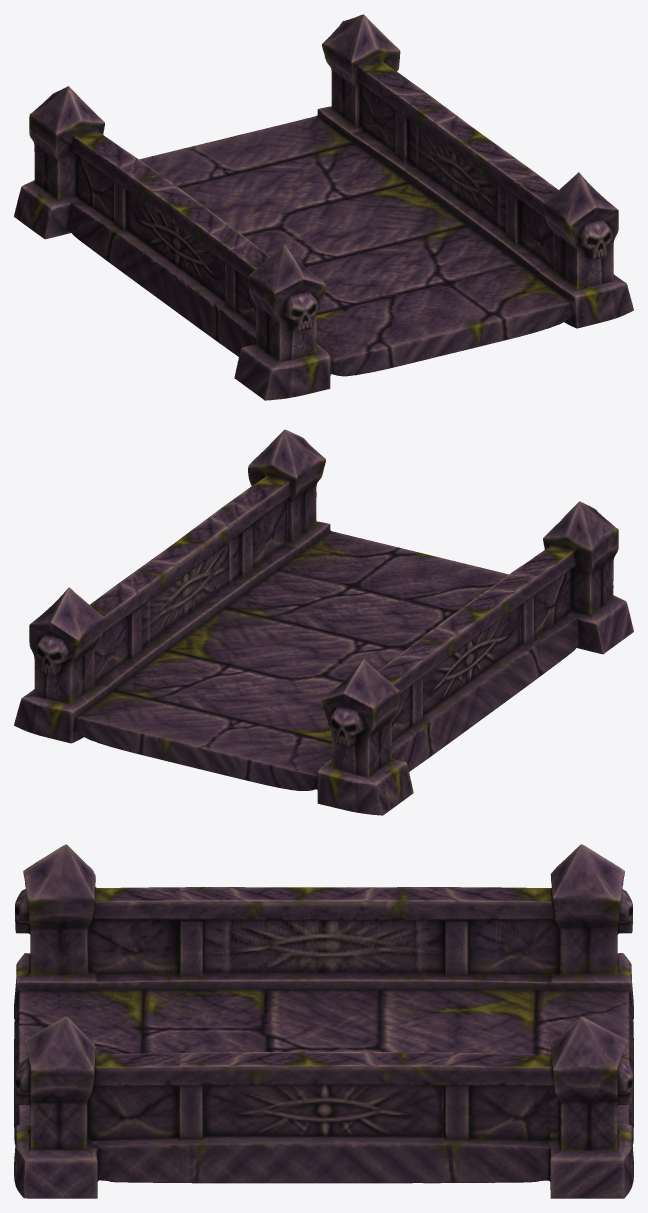
Rendered from ponte.glb.
3 renders of one model, top to bottom at view 1: azimuth 30°, elevation 25°; view 2: azimuth 150°, elevation 25°; view 3: azimuth 270°, elevation 25°, orthographic. The views are drawn at different scales.
Size of the model in its own units: 1.56 by 0.545 by 1.9.
1 material, 1 textured.
